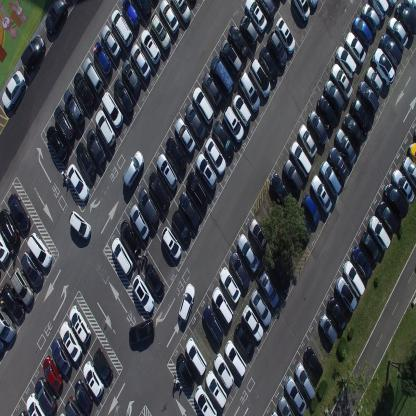car: (59, 319, 83, 363), (2, 68, 26, 112), (20, 33, 46, 72), (1, 280, 25, 322), (210, 56, 234, 98), (45, 124, 70, 164), (6, 192, 31, 232), (66, 162, 91, 201), (371, 47, 396, 86), (238, 71, 261, 113), (132, 273, 156, 313), (20, 250, 44, 290), (10, 266, 34, 306), (211, 285, 234, 326), (219, 39, 243, 78), (27, 231, 52, 268), (249, 57, 271, 99), (53, 103, 76, 143), (250, 287, 273, 327), (201, 303, 224, 343), (237, 233, 260, 273), (69, 304, 92, 344), (34, 376, 57, 416), (155, 152, 178, 192), (212, 119, 235, 159), (270, 173, 293, 213), (100, 90, 124, 128), (368, 214, 392, 252), (185, 336, 207, 377), (63, 87, 85, 128), (311, 173, 333, 214), (284, 374, 306, 415), (224, 338, 247, 377), (121, 149, 144, 188), (110, 8, 133, 47), (289, 140, 312, 179), (86, 126, 108, 166), (148, 170, 170, 210), (186, 170, 208, 210), (229, 250, 251, 290), (50, 337, 72, 377), (111, 236, 133, 276), (192, 85, 214, 125), (82, 56, 104, 96), (204, 136, 226, 176), (384, 182, 408, 218), (206, 369, 227, 410), (94, 109, 116, 148), (178, 191, 200, 230), (82, 359, 104, 398), (165, 135, 187, 174), (196, 152, 218, 191), (391, 167, 414, 204), (376, 198, 399, 235), (73, 70, 94, 110), (294, 361, 315, 401), (76, 140, 98, 178), (138, 186, 160, 224), (219, 266, 241, 304), (143, 260, 165, 298), (174, 117, 196, 155), (184, 102, 206, 140), (120, 58, 142, 96), (222, 104, 244, 142), (330, 62, 352, 100), (342, 112, 364, 150), (335, 274, 357, 312), (0, 207, 21, 246), (42, 355, 63, 394), (242, 304, 264, 341), (227, 23, 249, 60), (320, 160, 342, 197), (334, 129, 356, 166), (343, 260, 365, 297), (44, 0, 67, 35), (379, 33, 402, 68), (351, 96, 371, 136), (259, 270, 280, 308), (100, 23, 121, 61), (130, 42, 151, 80), (201, 72, 223, 108), (244, 0, 268, 33), (357, 79, 379, 115), (214, 352, 234, 391), (121, 219, 142, 256), (271, 256, 292, 293), (150, 14, 171, 51), (328, 145, 349, 182), (351, 245, 373, 280), (130, 203, 150, 241), (113, 77, 133, 115), (140, 27, 160, 65), (175, 352, 195, 390), (275, 16, 295, 54), (161, 224, 182, 260), (92, 347, 113, 383), (177, 282, 195, 324), (258, 46, 279, 82), (336, 44, 357, 80), (316, 94, 338, 128), (326, 296, 348, 330), (267, 30, 287, 67), (194, 383, 217, 415), (171, 209, 192, 244), (345, 31, 366, 66), (128, 318, 155, 345), (93, 40, 112, 78), (234, 320, 254, 356), (308, 109, 328, 145), (324, 78, 344, 114), (68, 210, 91, 241), (248, 217, 268, 252), (159, 0, 179, 35), (232, 93, 252, 128), (298, 123, 318, 158), (388, 15, 408, 50), (361, 228, 381, 263), (283, 159, 303, 193), (396, 1, 416, 35), (304, 344, 324, 378), (293, 208, 311, 244), (302, 191, 320, 226), (0, 306, 17, 343), (361, 2, 381, 33), (74, 378, 92, 412), (240, 13, 258, 47), (352, 16, 372, 46), (319, 312, 337, 344), (121, 0, 140, 30), (402, 155, 416, 192), (290, 0, 312, 22), (25, 392, 46, 415), (170, 0, 191, 23), (368, 0, 389, 21), (64, 394, 82, 416), (276, 394, 294, 416), (256, 0, 276, 19), (132, 0, 151, 19), (0, 232, 10, 264), (408, 141, 416, 165), (307, 0, 320, 8), (0, 337, 6, 354), (388, 0, 398, 8), (18, 410, 28, 416), (269, 410, 278, 415)
